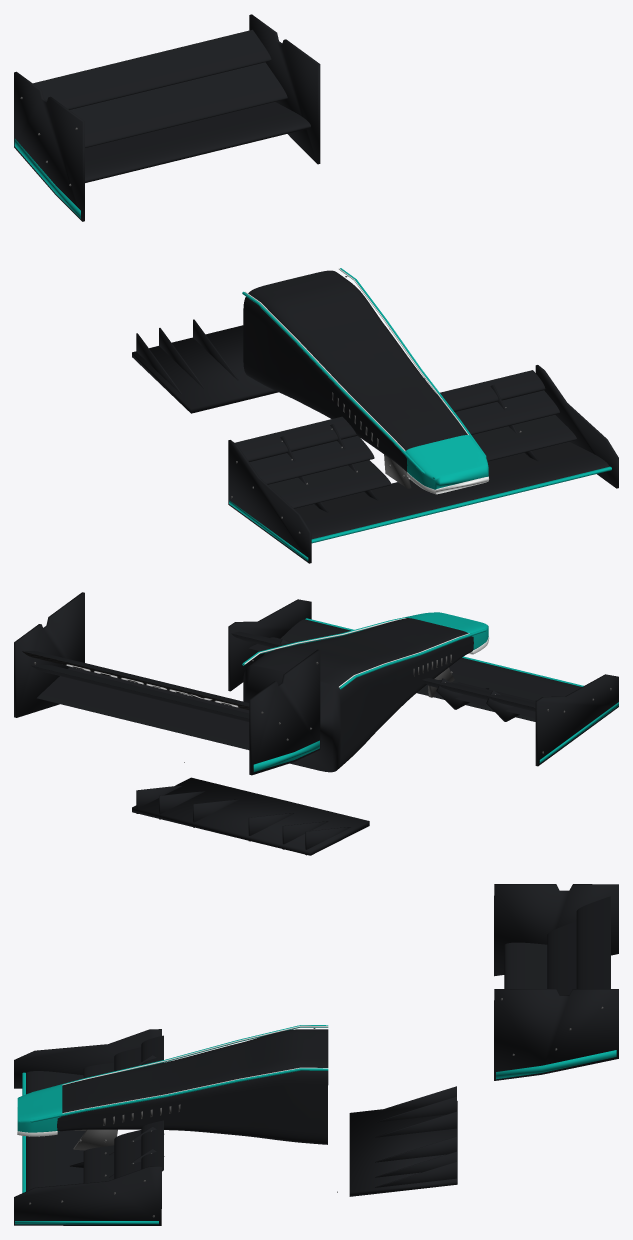
The model's file is aero-package.glb.
3 renders of one model, top to bottom at view 1: azimuth 30°, elevation 25°; view 2: azimuth 150°, elevation 25°; view 3: azimuth 270°, elevation 25°, orthographic. The views are drawn at different scales.
Parts seen in each view (by area): view 1: 03_Nose_Main_Shell, 03_Nose_Teal_Seam_L, 03_Front_Emblem_1; view 2: 03_Nose_Main_Shell, 03_Nose_Teal_Seam_L, 07_Rear_Upper_Flap, 03_Front_Emblem_1, 03_Nose_Louvre_L_0; view 3: 03_Nose_Main_Shell, 03_Nose_Teal_Seam_L, 03_Front_Emblem_1, 03_Nose_Louvre_L_0.
Part boxes in pixels (x1=…): 03_Nose_Main_Shell: x1=14, y1=14, x2=618, y2=563; 03_Nose_Teal_Seam_L: x1=14, y1=139, x2=611, y2=560; 03_Front_Emblem_1: x1=245, y1=268, x2=489, y2=494; 03_Nose_Main_Shell: x1=14, y1=592, x2=618, y2=855; 03_Nose_Teal_Seam_L: x1=242, y1=612, x2=618, y2=771; 07_Rear_Upper_Flap: x1=22, y1=651, x2=249, y2=709; 03_Front_Emblem_1: x1=244, y1=618, x2=489, y2=687; 03_Nose_Louvre_L_0: x1=34, y1=634, x2=611, y2=762; 03_Nose_Main_Shell: x1=14, y1=884, x2=618, y2=1225; 03_Nose_Teal_Seam_L: x1=15, y1=1025, x2=616, y2=1224; 03_Front_Emblem_1: x1=17, y1=1025, x2=328, y2=1136; 03_Nose_Louvre_L_0: x1=29, y1=998, x2=603, y2=1217.
Size of the model in its own units: 5.77 by 4.26 by 10.6.
Materials: 5 (1 with a texture image).
